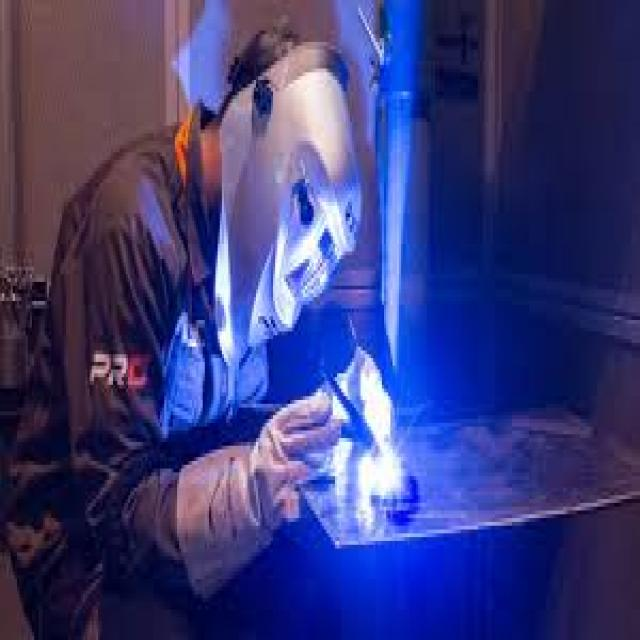welding: (361, 446, 400, 492)
